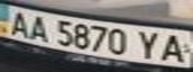0: (106, 25, 133, 56)
5: (51, 17, 75, 47)
7: (87, 23, 109, 53)
8: (69, 20, 90, 51)
A: (157, 32, 190, 63), (24, 12, 54, 43), (3, 8, 33, 37)
Y: (133, 28, 166, 61)
